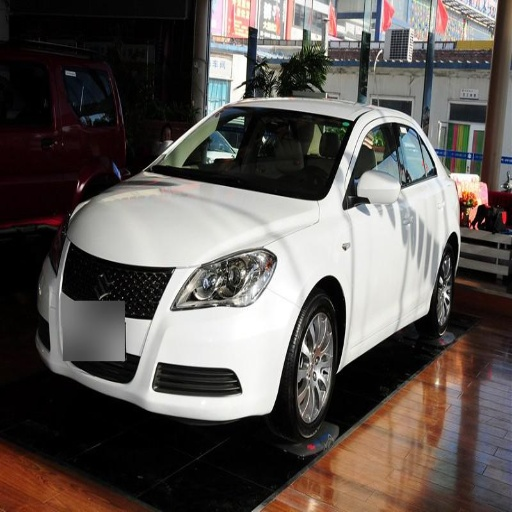front_bumper: (35, 241, 300, 422)
front_glass: (149, 108, 354, 199)
front_left_door: (345, 118, 413, 343)
